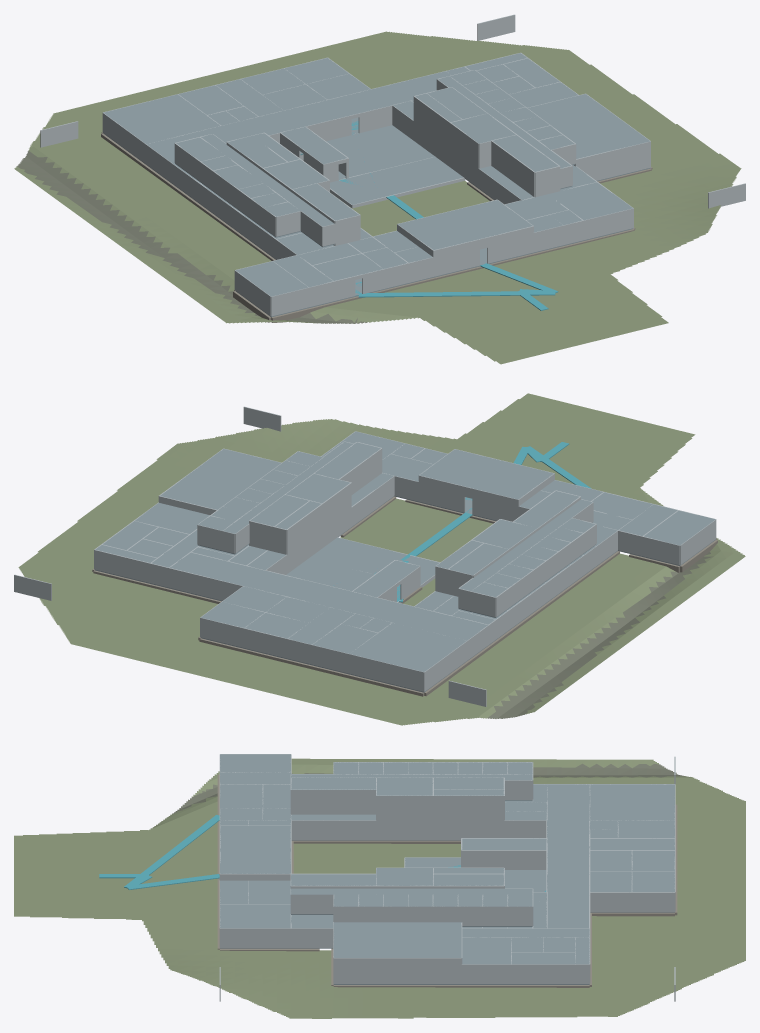
Rendered from closed-floors.glb.
3 views of the same model, one above another, from view 1: azimuth 30°, elevation 25°; view 2: azimuth 150°, elevation 25°; view 3: azimuth 270°, elevation 25° (orthographic).
Parts seen in each view (by area): view 1: Saved editor macroterrain PRISON, Ceiling cap cross, Ceiling cap chapel, Ceiling cap sally, Ceiling cap dining, Ceiling cap laundry, Ceiling cap plant, Wall chapel S, Ceiling cap guard-link, Wall b-rear-bypass W, Ceiling cap a-upper-gallery, Wall b-dayhall W (+40 smaller); view 2: Saved editor macroterrain PRISON, Ceiling cap cross, Ceiling cap chapel, Ceiling cap sally, Ceiling cap dining, Ceiling cap laundry, Wall b-rear-bypass W, Wall dining N, Ceiling cap plant, Ceiling cap a-upper-gallery, Wall cross N.002, Wall b-dayhall W (+36 smaller); view 3: Saved editor macroterrain PRISON, Ceiling cap cross, Ceiling cap chapel, Ceiling cap sally, Wall chapel E, Ceiling cap dining, Wall a-rear-bypass E, Wall a-dayhall E, Wall a-stair E, Ceiling cap guard-link, Wall a-front-aisle E, Ceiling cap b-upper-gallery (+45 smaller).
Boxes of the visible parts, x1,y1,x2,y2 form: Saved editor macroterrain PRISON: (14,31,741,364); Ceiling cap cross: (146,71,451,159); Ceiling cap chapel: (527,94,649,158); Ceiling cap sally: (398,200,532,249); Ceiling cap dining: (103,94,219,143); Ceiling cap laundry: (330,157,463,204); Ceiling cap plant: (326,125,434,177); Wall chapel S: (575,141,650,180); Ceiling cap guard-link: (548,182,632,220); Wall b-rear-bypass W: (413,96,450,166); Ceiling cap a-upper-gallery: (201,134,334,226); Wall b-dayhall W: (449,122,478,187); Saved editor macroterrain PRISON: (18,393,745,725); Ceiling cap cross: (170,552,487,640); Ceiling cap chapel: (160,449,280,509); Ceiling cap sally: (419,449,553,499); Ceiling cap dining: (350,622,466,671); Ceiling cap laundry: (309,537,439,584); Wall b-rear-bypass W: (286,503,322,573); Wall dining N: (349,654,424,691); Ceiling cap plant: (286,558,374,591); Ceiling cap a-upper-gallery: (459,499,592,591); Wall cross N.002: (169,568,319,604); Wall b-dayhall W: (322,482,351,547); Saved editor macroterrain PRISON: (14,758,745,1018); Ceiling cap cross: (547,784,589,928); Ceiling cap chapel: (333,922,461,957); Ceiling cap sally: (220,826,290,873); Wall chapel E: (333,958,461,983); Ceiling cap dining: (589,784,674,820); Wall a-rear-bypass E: (433,795,504,839); Wall a-dayhall E: (376,795,433,839); Wall a-stair E: (291,789,375,814); Ceiling cap guard-link: (220,904,290,928); Wall a-front-aisle E: (291,820,376,839); Ceiling cap b-upper-gallery: (291,888,532,894).
Size of the model in its own units: 87 by 9.96 by 103.
